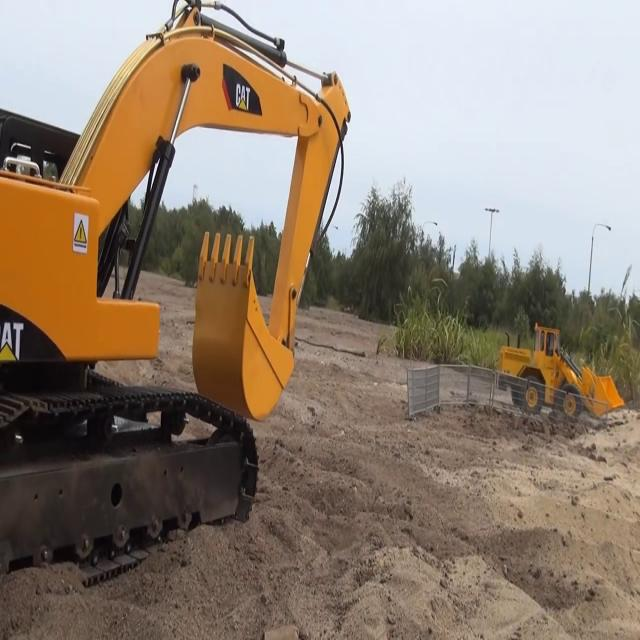excavator: (1, 4, 355, 582)
